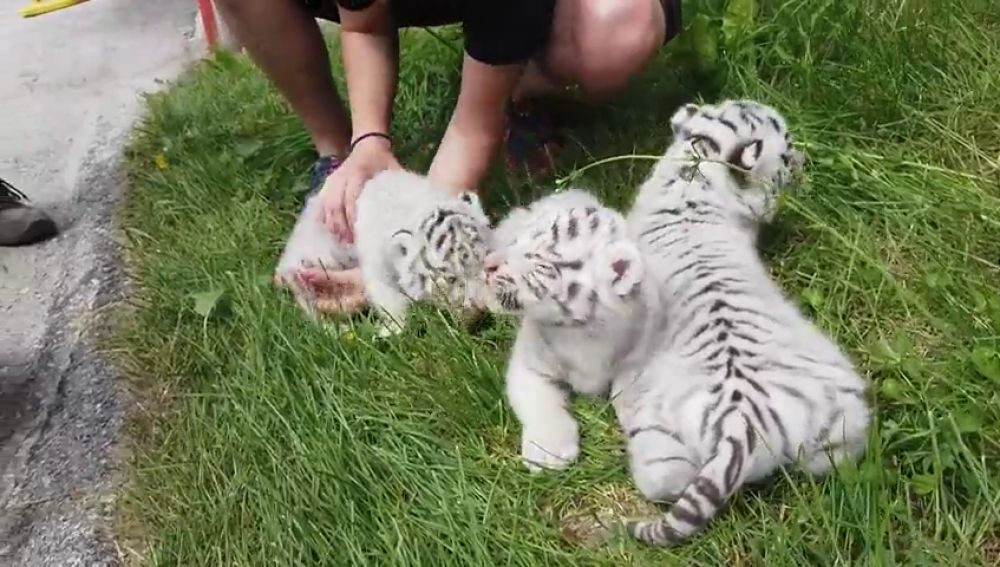Tigrew: (627, 61, 885, 528), (475, 156, 648, 483), (279, 151, 513, 332)
